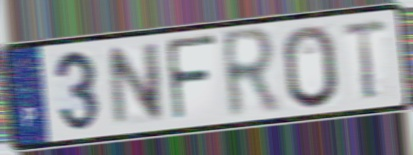3: (50, 47, 104, 135)
F: (163, 32, 220, 125)
N: (106, 39, 166, 131)
O: (280, 22, 341, 111)
R: (218, 23, 284, 124)
T: (341, 16, 390, 104)
